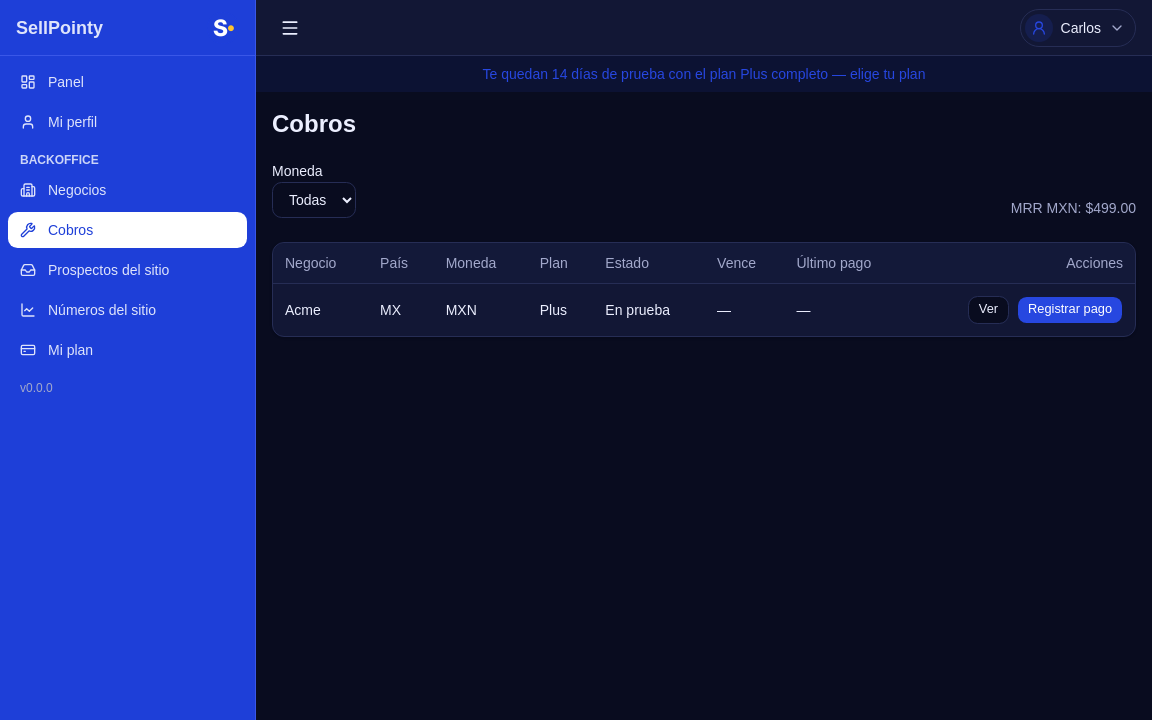
Test: Backoffice /admin/billing (F7-WEB-10) › y al revés: capturar el descuento completa el monto recibido
Click the button "Registrar pago": (1070, 310) x1=1017 y1=296 x2=1123 y2=324
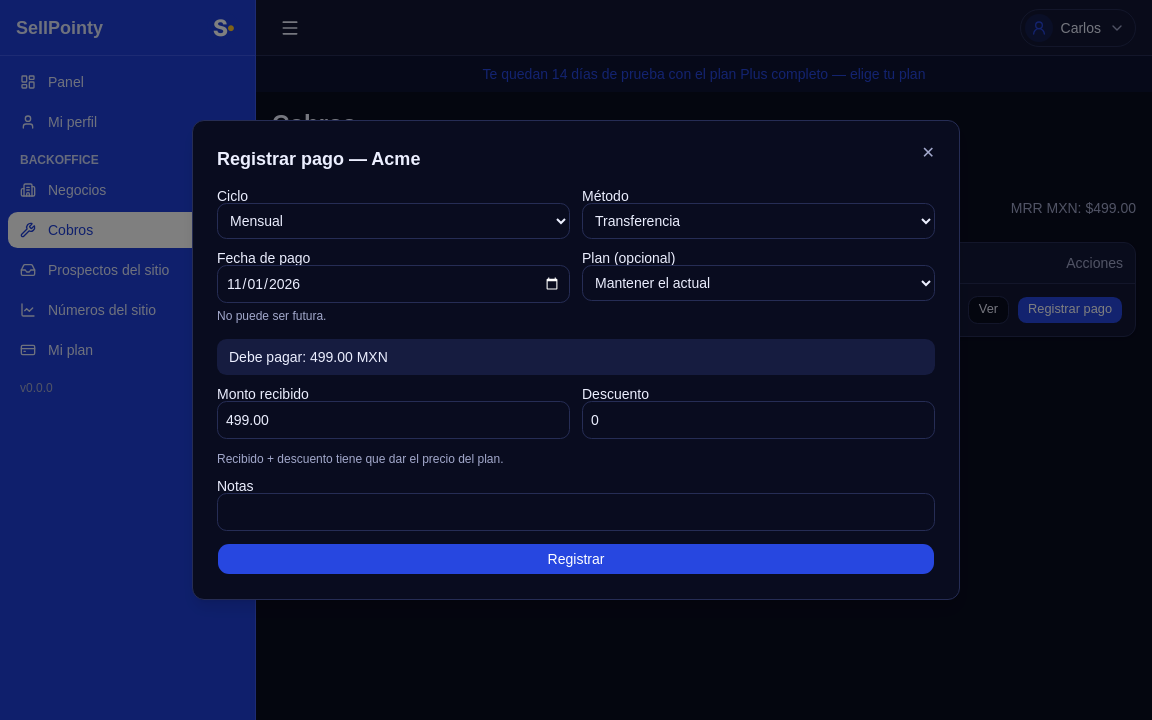
Replace the text in the field labelled "Descuento" with "199": (758, 420) x1=582 y1=401 x2=935 y2=439
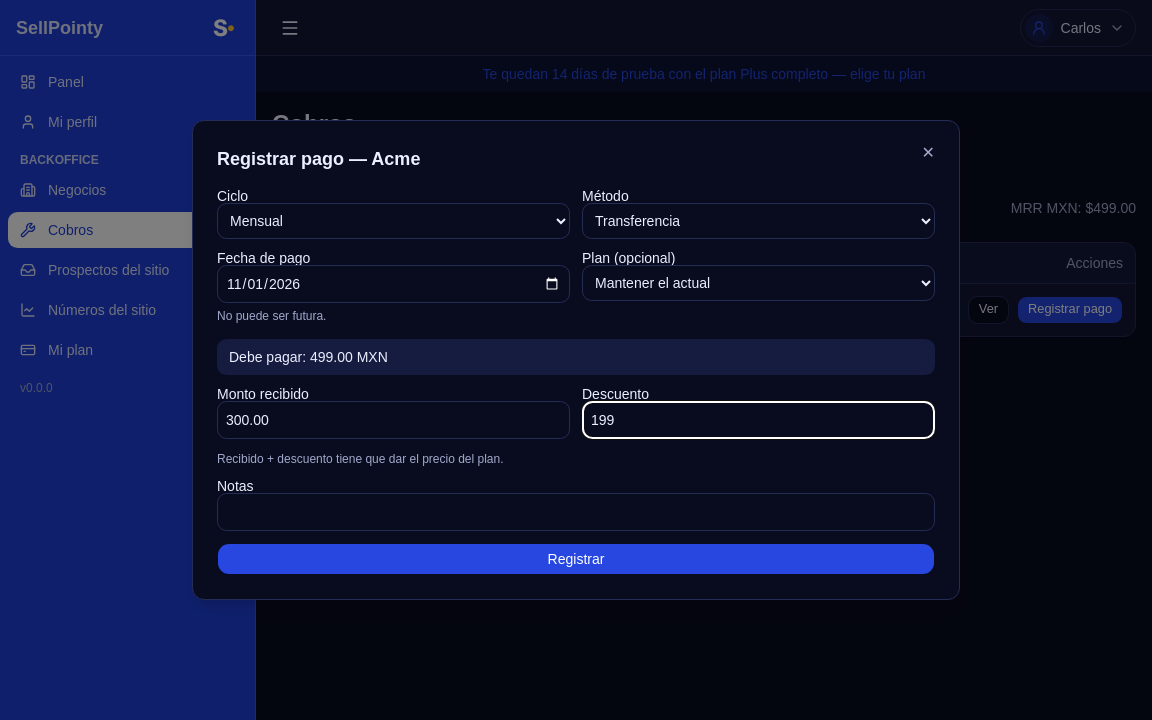
Expected: the field labelled "Monto recibido" holds "300.00", x1=217 y1=401 x2=570 y2=439
